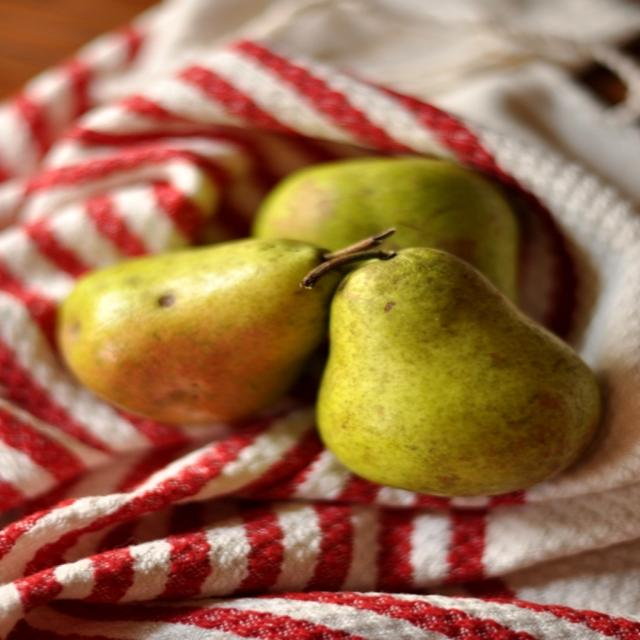pear: (312, 246, 606, 497), (55, 226, 396, 427), (248, 156, 516, 306)
